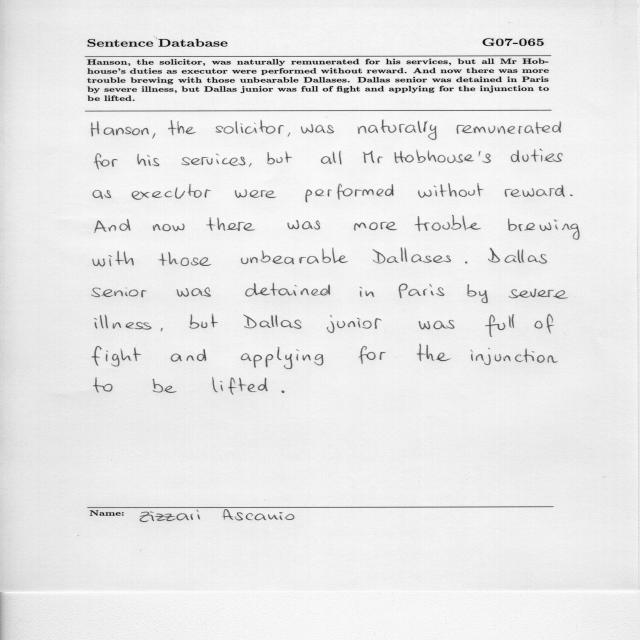word: (241, 347, 324, 369), (241, 248, 348, 265), (305, 184, 394, 202), (508, 218, 580, 240), (358, 120, 437, 140), (470, 348, 558, 365), (457, 121, 562, 134), (132, 184, 211, 200), (394, 150, 491, 163), (373, 248, 451, 264), (245, 283, 330, 296), (415, 215, 481, 231), (92, 346, 141, 367), (212, 377, 268, 395), (418, 183, 484, 198), (327, 315, 382, 333), (216, 120, 284, 134), (488, 248, 547, 264), (91, 121, 149, 136), (244, 314, 302, 329), (95, 315, 152, 330), (182, 153, 246, 166), (158, 252, 211, 266), (505, 185, 565, 197), (399, 284, 445, 299), (206, 217, 255, 231), (511, 149, 563, 162), (485, 314, 514, 337), (509, 288, 568, 299), (93, 251, 134, 266), (417, 344, 451, 361), (92, 288, 147, 298), (95, 219, 131, 233), (359, 346, 386, 364), (171, 349, 206, 362), (189, 314, 218, 329), (168, 120, 196, 135), (467, 284, 488, 303), (354, 222, 397, 231), (94, 154, 118, 170), (534, 314, 554, 333), (235, 189, 276, 198), (177, 287, 211, 297), (153, 379, 177, 393), (301, 124, 334, 134), (287, 220, 320, 230), (267, 152, 292, 165), (419, 320, 455, 329), (94, 377, 113, 393), (137, 154, 160, 166), (321, 151, 341, 164), (153, 224, 185, 232), (363, 151, 383, 163), (93, 190, 111, 199), (360, 287, 374, 297), (152, 133, 155, 139), (249, 163, 252, 167), (288, 132, 290, 137), (282, 390, 285, 393), (570, 194, 573, 196), (161, 328, 163, 331), (465, 262, 467, 264)
